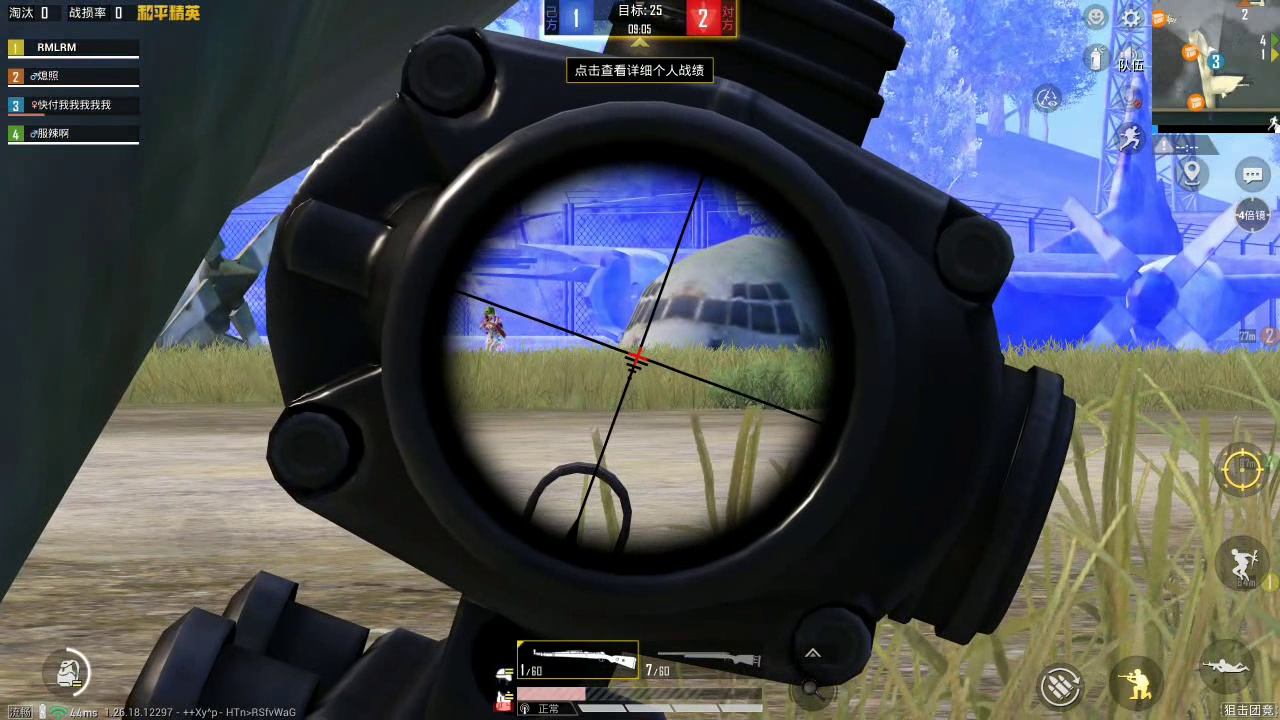enemy: (479, 306, 505, 355)
